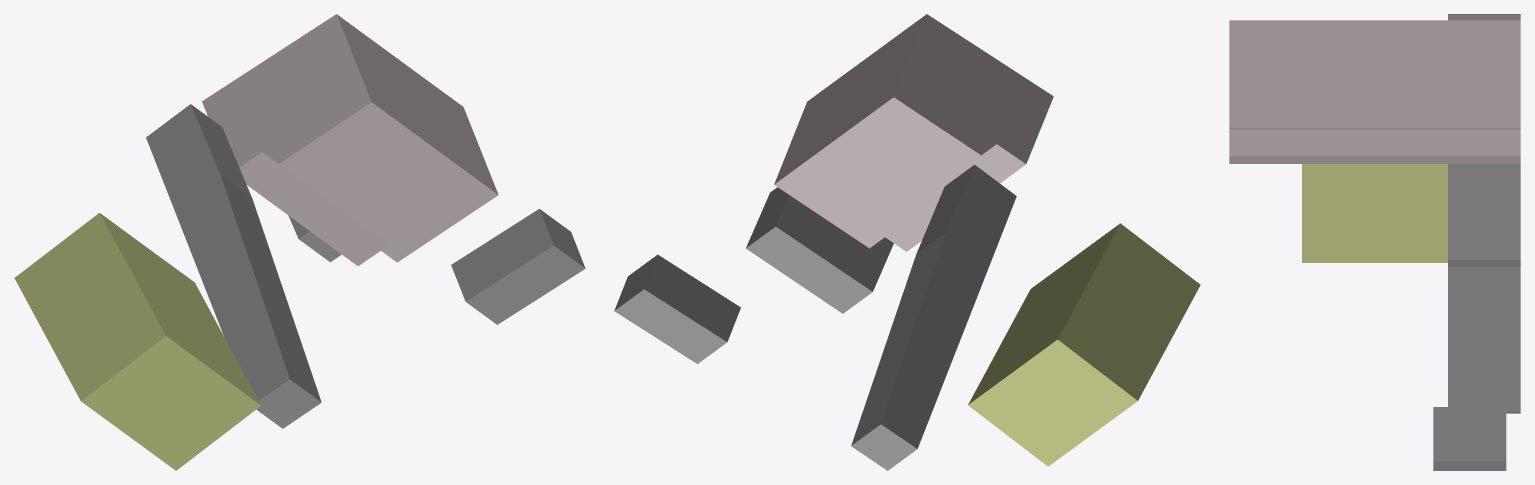
The picture shows the model from 3 angles, left to right: view 1: azimuth 30°, elevation 25°; view 2: azimuth 150°, elevation 25°; view 3: azimuth 270°, elevation 25°; orthographic projection. The views are drawn at different scales.
Parts seen in each view (by area): view 1: 0_1_0_2_0_0_3_0_2_1; view 2: 0_1_0_2_0_0_3_0_2_1; view 3: 0_1_0_2_0_0_3_0_2_1.
Boxes of the visible parts, bbox=[...] form: 0_1_0_2_0_0_3_0_2_1: bbox=[14, 14, 585, 470]; 0_1_0_2_0_0_3_0_2_1: bbox=[614, 14, 1200, 470]; 0_1_0_2_0_0_3_0_2_1: bbox=[1229, 14, 1520, 470].
Size of the model in its own units: 29.09 by 19.34 by 12.
